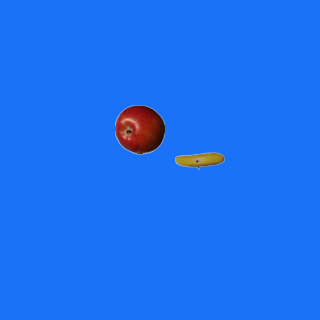Apple Braeburn: (114, 104, 164, 154)
Banana: (174, 135, 224, 185)
